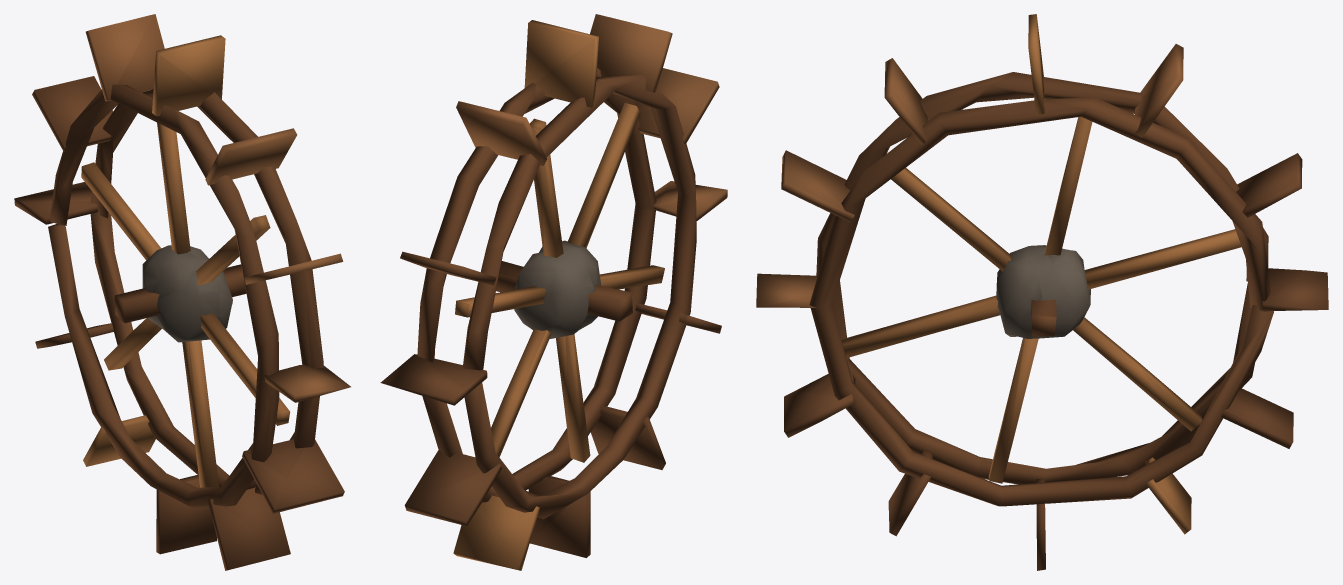
File: glade_mill_wheel_lod2.glb
The picture shows the model from 3 angles, left to right: view 1: azimuth 30°, elevation 25°; view 2: azimuth 150°, elevation 25°; view 3: azimuth 270°, elevation 25°; orthographic projection. The views are drawn at different scales.
Parts seen in each view (by area): view 1: glade_mill_wheel.001; view 2: glade_mill_wheel.001; view 3: glade_mill_wheel.001.
Boxes of the visible parts, box(x1,y1,x2,y2) form: glade_mill_wheel.001: box(14, 14, 350, 570); glade_mill_wheel.001: box(380, 14, 727, 570); glade_mill_wheel.001: box(756, 14, 1328, 570).
Bounding box in the file's own units: 2.19 × 7.97 × 7.87.
